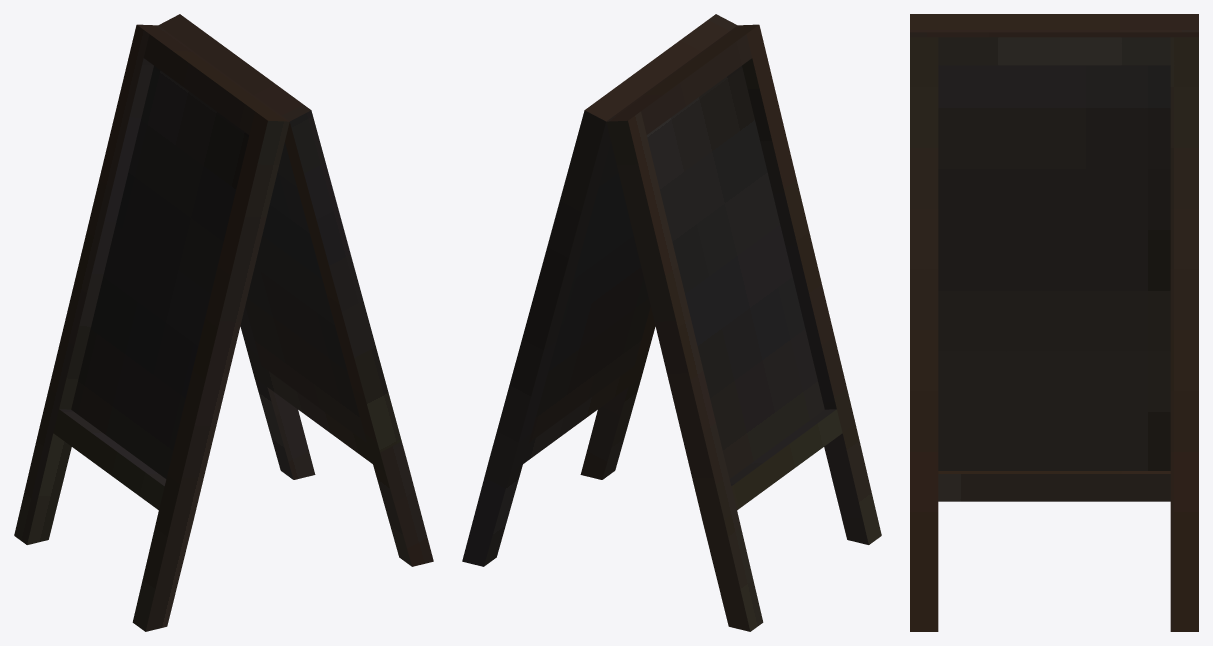
The model's file is contact_sign.glb.
The picture shows the model from 3 angles, left to right: view 1: azimuth 30°, elevation 25°; view 2: azimuth 150°, elevation 25°; view 3: azimuth 270°, elevation 25°; orthographic projection. The views are drawn at different scales.
Visible parts, largest first — view 1: defaultMaterial; view 2: defaultMaterial; view 3: defaultMaterial.
Boxes of the visible parts, x1,y1,x2,y2 form: defaultMaterial: [14, 14, 433, 631]; defaultMaterial: [462, 14, 881, 631]; defaultMaterial: [910, 14, 1198, 631].
Bounding box in the file's own units: 71.15 × 113 × 56.18.
1 material, 1 textured.
